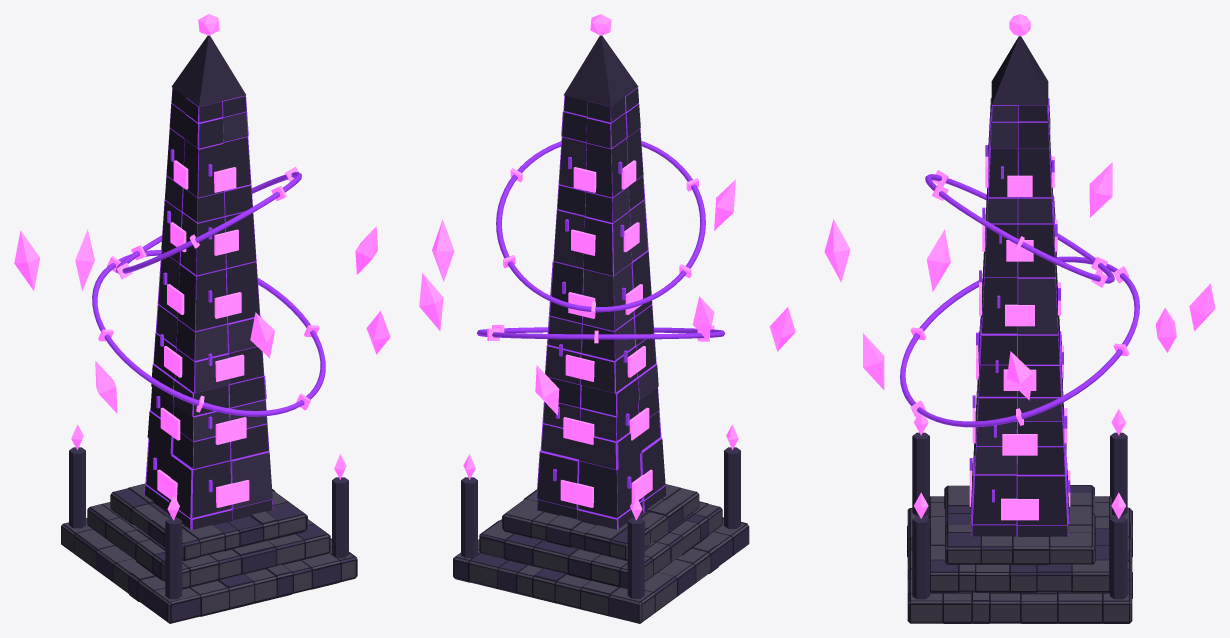
The model's file is obelisk.glb.
3 renders of one model, left to right at view 1: azimuth 30°, elevation 25°; view 2: azimuth 150°, elevation 25°; view 3: azimuth 270°, elevation 25°, orthographic. The views are drawn at different scales.
Visible parts, largest first — view 1: body_mesh, shards_mesh, rune_ring0_mesh, rune_ring1_mesh; view 2: body_mesh, shards_mesh, rune_ring1_mesh, rune_ring0_mesh; view 3: body_mesh, shards_mesh, rune_ring0_mesh, rune_ring1_mesh.
Part boxes in pixels (x1,y1,x2,y2): body_mesh: [61, 14, 357, 623]; shards_mesh: [14, 226, 390, 413]; rune_ring0_mesh: [92, 250, 325, 416]; rune_ring1_mesh: [116, 167, 301, 279]; body_mesh: [453, 14, 749, 623]; shards_mesh: [419, 179, 795, 415]; rune_ring1_mesh: [496, 141, 705, 317]; rune_ring0_mesh: [477, 325, 725, 343]; body_mesh: [907, 14, 1132, 623]; shards_mesh: [824, 162, 1215, 400]; rune_ring0_mesh: [900, 256, 1139, 427]; rune_ring1_mesh: [925, 170, 1114, 287].
Size of the model in its own units: 15.28 by 24.93 by 15.67.
